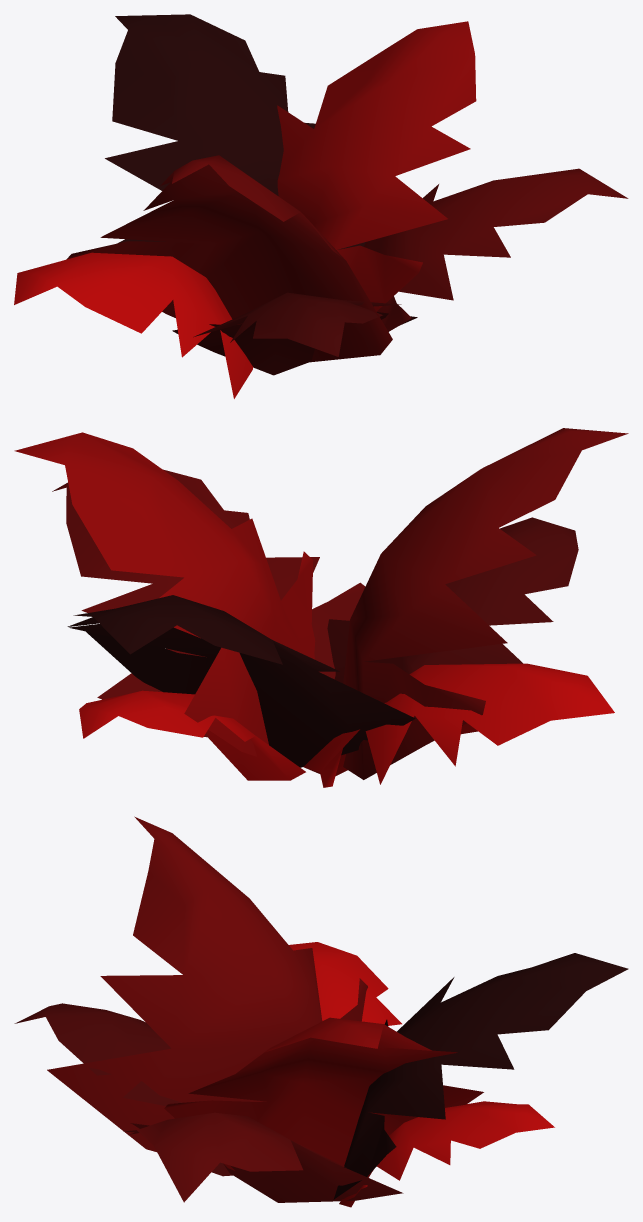
File: Fern Big.fbx
3 views of the same model, one above another, from view 1: azimuth 30°, elevation 25°; view 2: azimuth 150°, elevation 25°; view 3: azimuth 270°, elevation 25° (orthographic). The views are drawn at different scales.
Parts seen in each view (by area): view 1: polySurface2; view 2: polySurface2; view 3: polySurface2.
Part boxes in pixels (<box>): polySurface2: <box>14,14,628,398</box>; polySurface2: <box>14,428,628,787</box>; polySurface2: <box>14,816,628,1207</box>.
Size of the model in its own units: 199 by 97.44 by 191.
